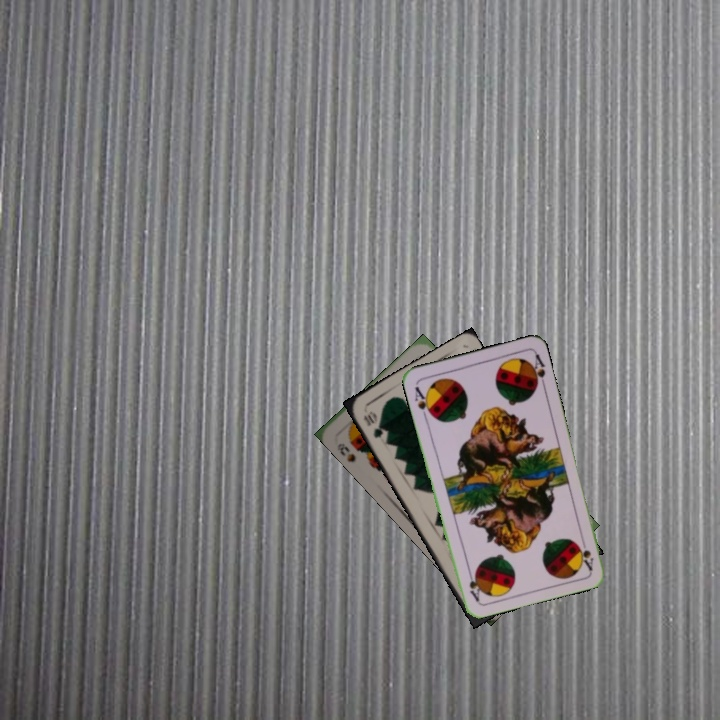G10: (359, 407, 386, 441)
S8: (333, 439, 358, 465)
SA: (411, 382, 435, 421), (574, 532, 596, 572)
